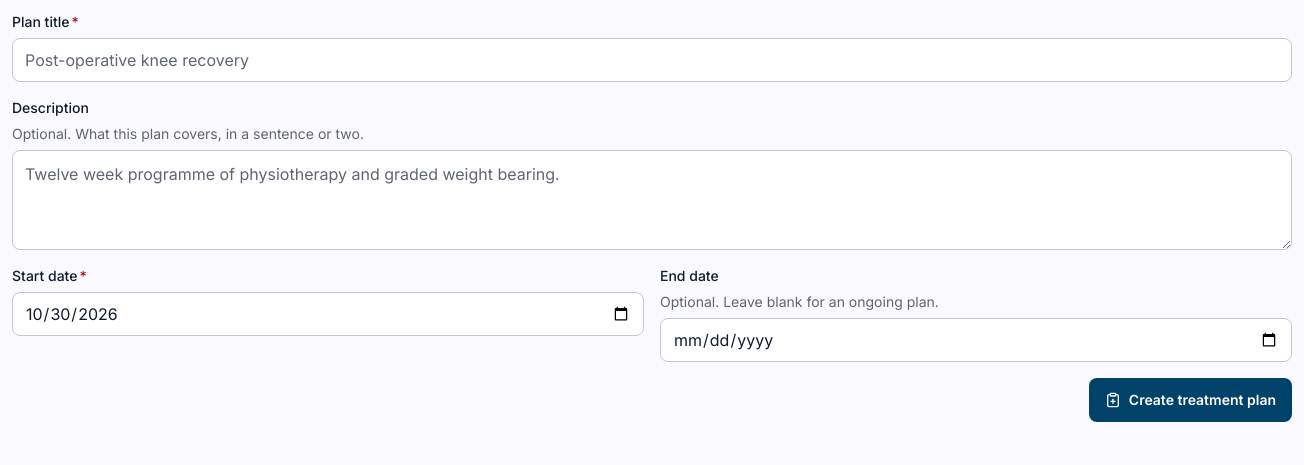
Test: creating a treatment plan (module 3.1) › refuses a plan with no title, and sends nothing
Step 1. Click the button "Create treatment plan" → (1190, 400), box x1=1089 y1=378 x2=1292 y2=422
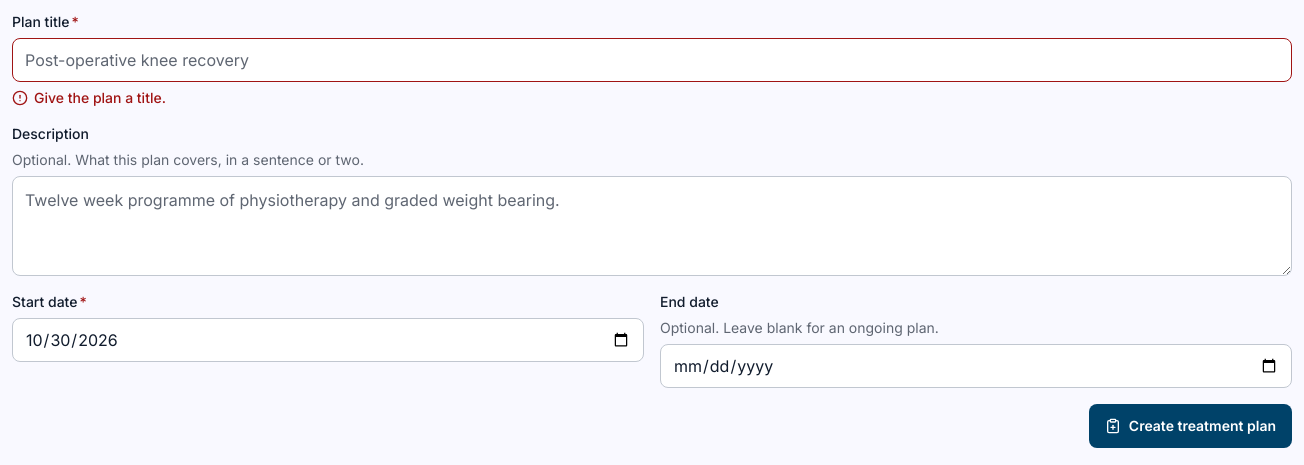
Expected: the text "Give the plan a title." is shown, x1=12 y1=89 x2=166 y2=106
